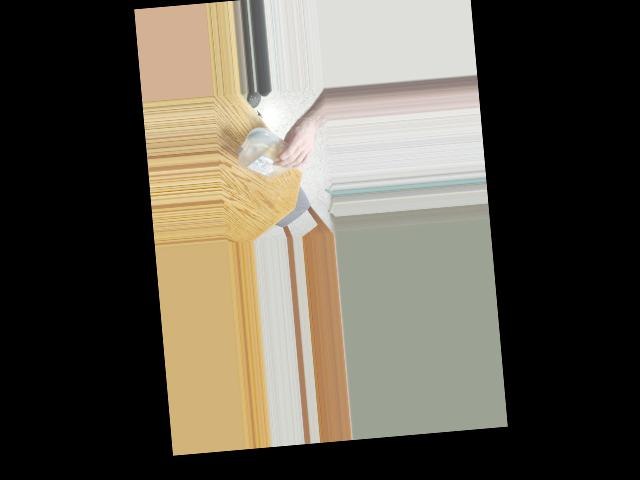cheese: (233, 125, 303, 183)
